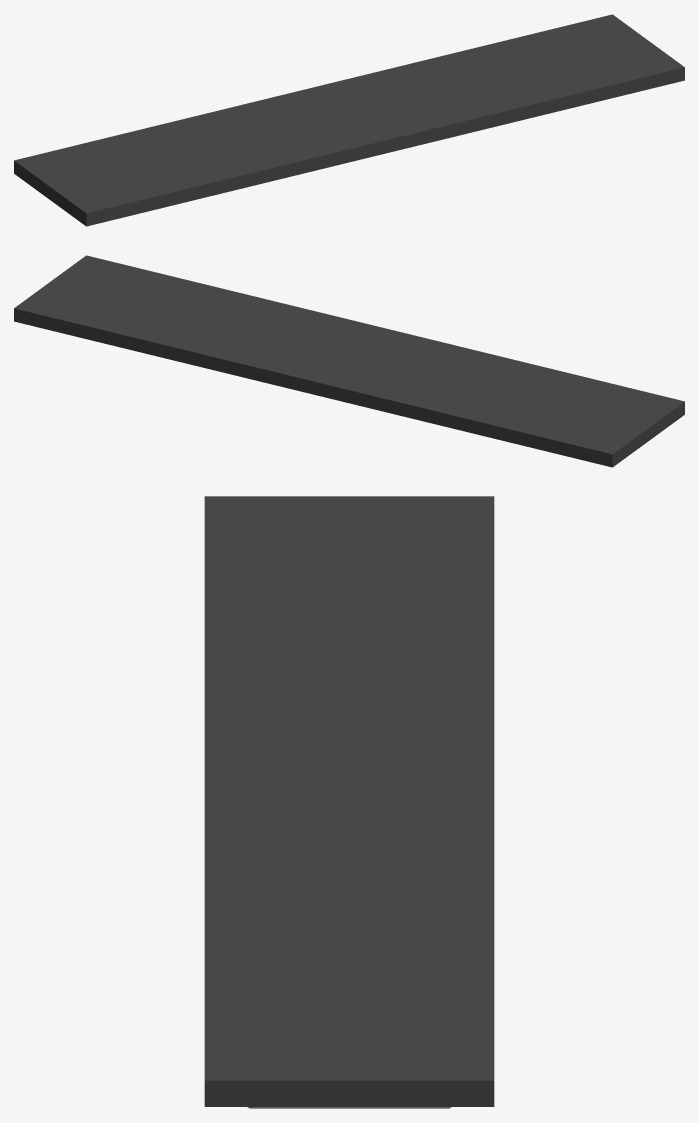
Rendered from SM_Prop_CeilingLight_04.fbx.
The picture shows the model from 3 angles, top to bottom: view 1: azimuth 30°, elevation 25°; view 2: azimuth 150°, elevation 25°; view 3: azimuth 270°, elevation 25°; orthographic projection. The views are drawn at different scales.
Visible parts, largest first — view 1: SM_Prop_CeilingLight_04; view 2: SM_Prop_CeilingLight_04; view 3: SM_Prop_CeilingLight_04.
Part boxes in pixels (box(x1,y1,x2,y2)): SM_Prop_CeilingLight_04: box(14, 14, 684, 226); SM_Prop_CeilingLight_04: box(14, 255, 684, 467); SM_Prop_CeilingLight_04: box(204, 496, 494, 1108).
Bounding box in the file's own units: 180 × 6.8 × 37.65.
